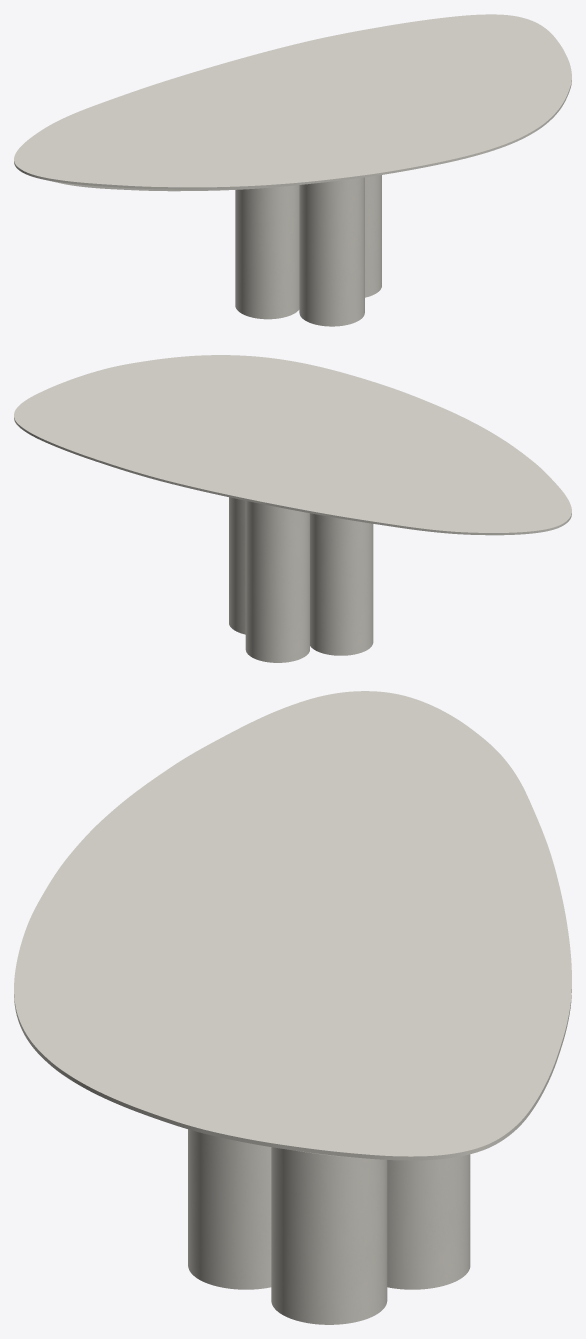
File: pale_pebbletop_facet_secondtable.glb
The picture shows the model from 3 angles, top to bottom: view 1: azimuth 30°, elevation 25°; view 2: azimuth 150°, elevation 25°; view 3: azimuth 270°, elevation 25°; orthographic projection. The views are drawn at different scales.
Parts seen in each view (by area): view 1: facet_pebbletop, secondtable; view 2: facet_pebbletop, secondtable; view 3: facet_pebbletop, secondtable.
Boxes of the visible parts, left/top/right/bottom form: facet_pebbletop: left=14, top=14, right=571, bottom=191; secondtable: left=235, top=175, right=381, bottom=326; facet_pebbletop: left=14, top=355, right=571, bottom=535; secondtable: left=229, top=497, right=373, bottom=662; facet_pebbletop: left=14, top=691, right=571, bottom=1160; secondtable: left=188, top=1129, right=470, bottom=1324.
Bounding box in the file's own units: 7.5 × 2.5 × 3.8.
1 material, 1 textured.
